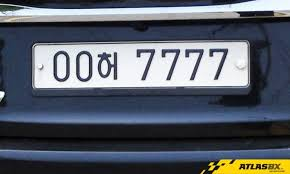plate: (34, 45, 247, 85)
